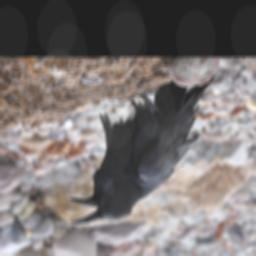Crow: (69, 73, 219, 224)
